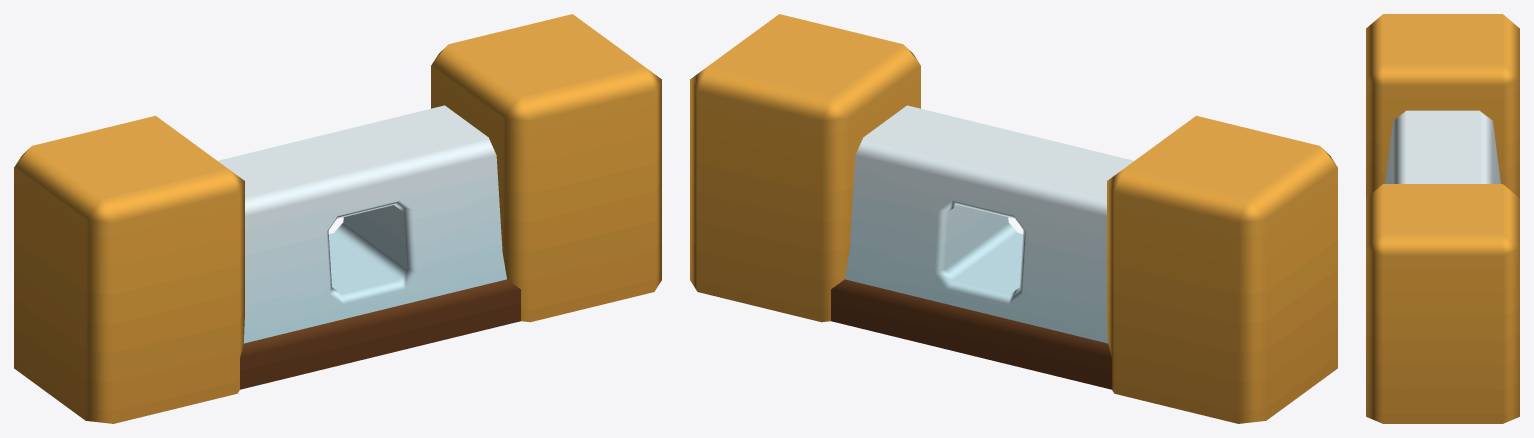
File: Fence_Prop_Orange.fbx
3 views of the same model, side by side, from view 1: azimuth 30°, elevation 25°; view 2: azimuth 150°, elevation 25°; view 3: azimuth 270°, elevation 25° (orthographic). The views are drawn at different scales.
Visible parts, largest first — view 1: Fence_Prop, FencePost_Prop, FenceSeg_Prop; view 2: Fence_Prop, FenceSeg_Prop, FencePost_Prop; view 3: FencePost_Prop, Fence_Prop, FenceSeg_Prop.
Part boxes in pixels (<box>): Fence_Prop: <box>14,115,506,423</box>; FencePost_Prop: <box>431,14,661,322</box>; FenceSeg_Prop: <box>218,105,520,389</box>; Fence_Prop: <box>845,115,1337,423</box>; FenceSeg_Prop: <box>831,105,1133,389</box>; FencePost_Prop: <box>690,14,920,322</box>; FencePost_Prop: <box>1366,184,1519,423</box>; Fence_Prop: <box>1366,14,1519,197</box>; FenceSeg_Prop: <box>1385,110,1500,183</box>.
Size of what is drawn, in the model's own units: 138 by 50.01 by 38.22.
